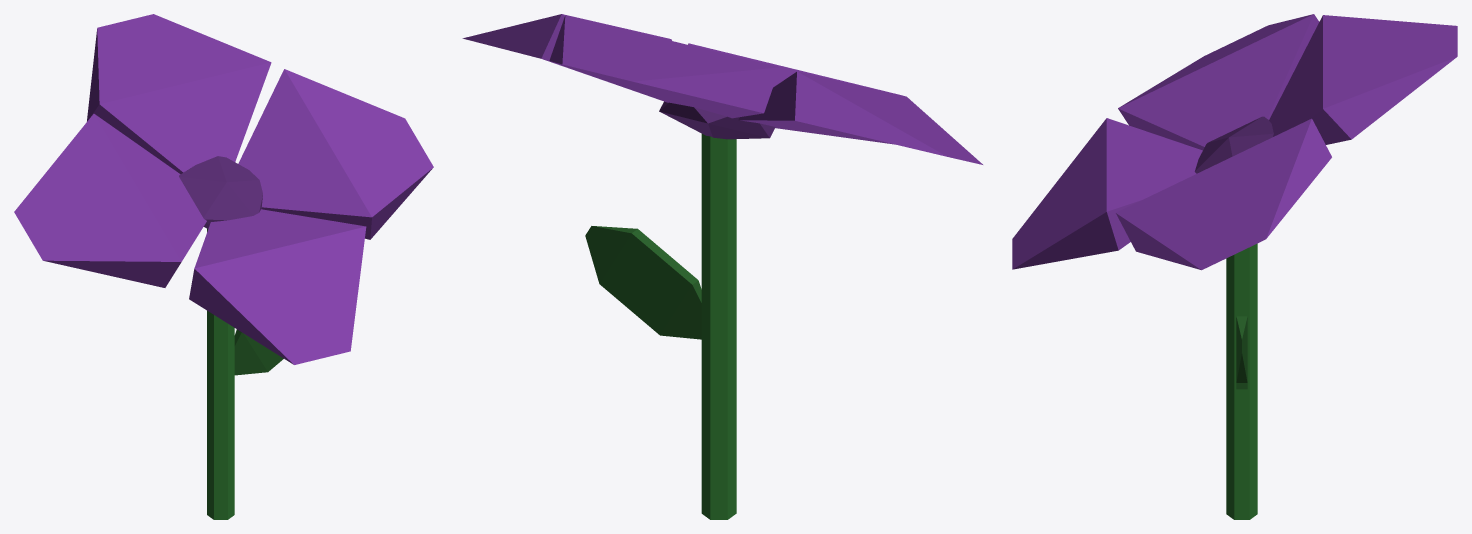
Rendered from Flower_2_Purple.fbx.
3 renders of one model, left to right at view 1: azimuth 30°, elevation 25°; view 2: azimuth 150°, elevation 25°; view 3: azimuth 270°, elevation 25°, orthographic. The views are drawn at different scales.
Parts seen in each view (by area): view 1: Flower_2_Purple; view 2: Flower_2_Purple; view 3: Flower_2_Purple.
Part boxes in pixels (x1,y1,x2,y2): Flower_2_Purple: [14, 14, 433, 519]; Flower_2_Purple: [462, 14, 982, 519]; Flower_2_Purple: [1012, 14, 1457, 519].
Size of the model in its own units: 45.18 by 46.83 by 39.92.
